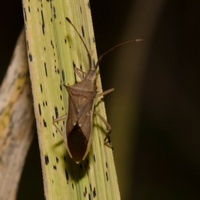insect: (53, 39, 143, 162)
